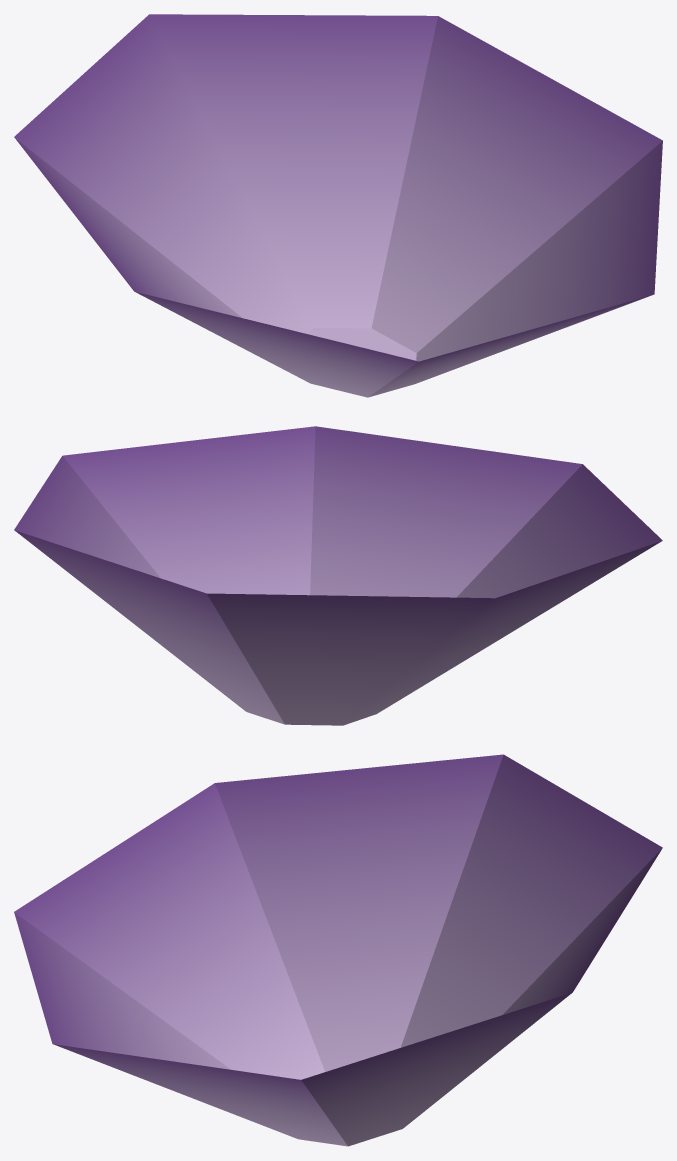
The model's file is IglooStageLight_frame02.fbx.
3 renders of one model, top to bottom at view 1: azimuth 30°, elevation 25°; view 2: azimuth 150°, elevation 25°; view 3: azimuth 270°, elevation 25°, orthographic. The views are drawn at different scales.
Parts seen in each view (by area): view 1: IglooStageLight_frame02; view 2: IglooStageLight_frame02; view 3: IglooStageLight_frame02.
Boxes of the visible parts, left/top/right/bottom form: IglooStageLight_frame02: left=14, top=14, right=662, bottom=397; IglooStageLight_frame02: left=14, top=426, right=662, bottom=725; IglooStageLight_frame02: left=14, top=754, right=662, bottom=1146.
Bounding box in the file's own units: 65.9 × 28.04 × 65.38.
